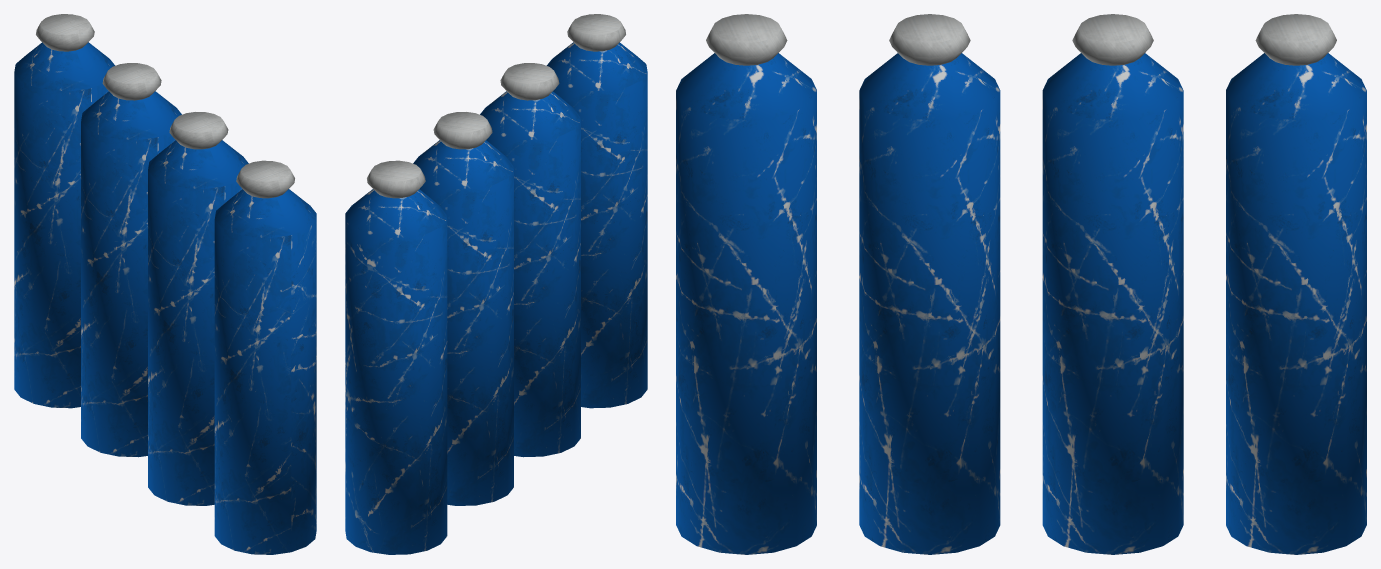
The model's file is balons.fbx.
The picture shows the model from 3 angles, left to right: view 1: azimuth 30°, elevation 25°; view 2: azimuth 150°, elevation 25°; view 3: azimuth 270°, elevation 25°; orthographic projection. The views are drawn at different scales.
Visible parts, largest first — view 1: Circle.046; view 2: Circle.046; view 3: Circle.046.
Boxes of the visible parts, x1,y1,x2,y2 form: Circle.046: [14, 14, 316, 554]; Circle.046: [345, 14, 647, 554]; Circle.046: [676, 14, 1366, 554].
Size of the model in its own units: 2 by 7.78 by 9.8.
